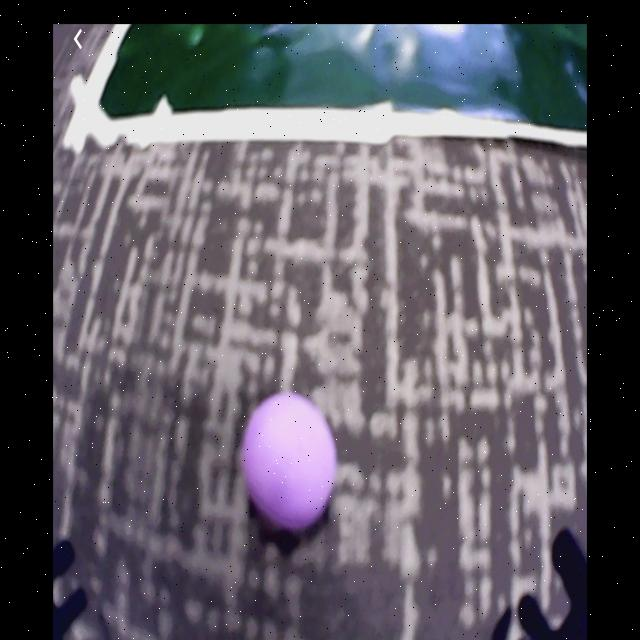ball: (244, 395, 337, 532)
